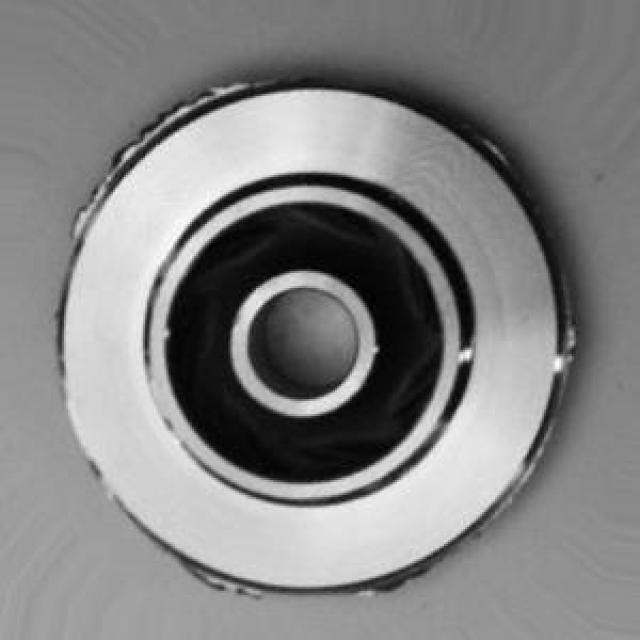Defect: (126, 108, 187, 142)
